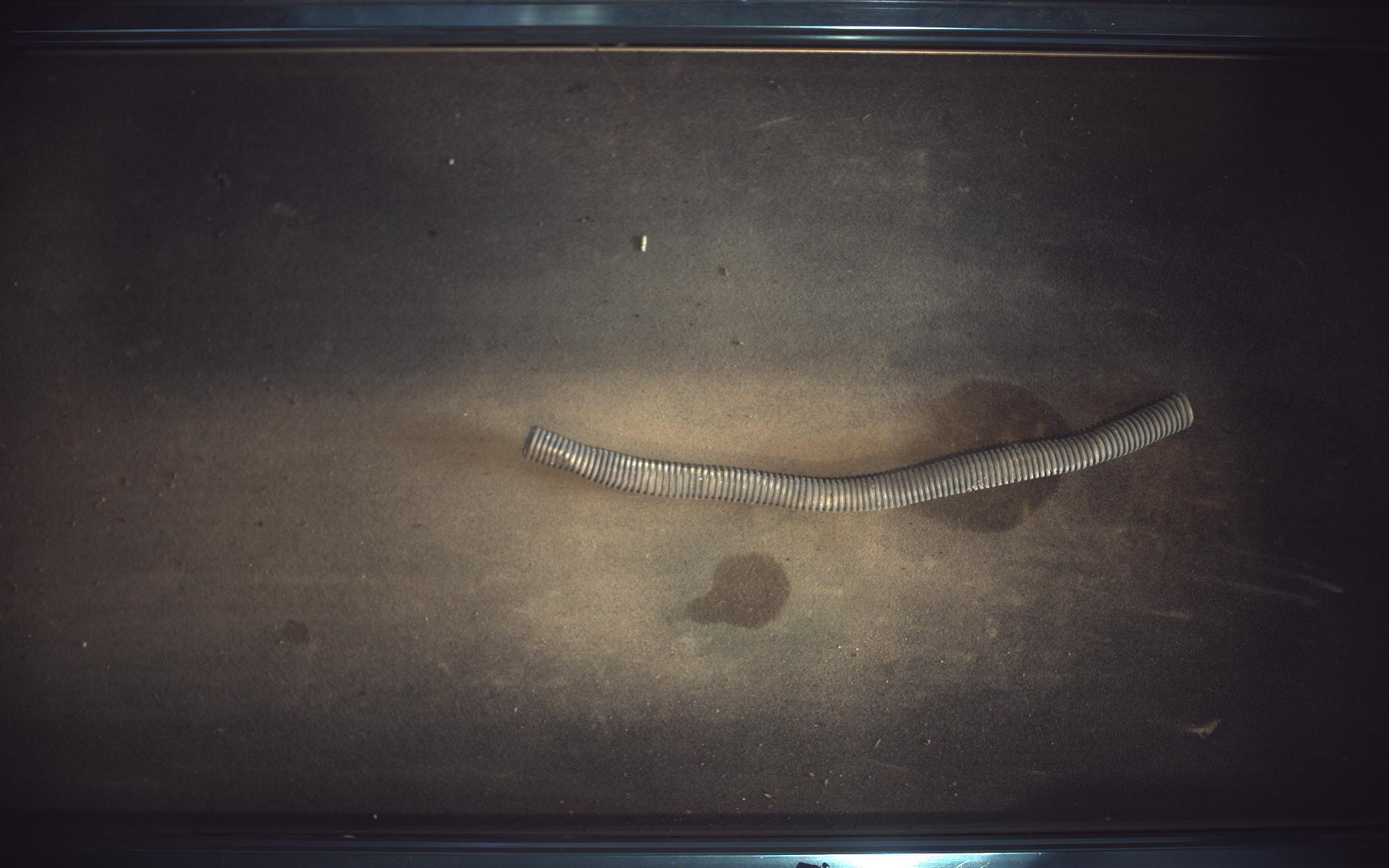pipes: (524, 393, 1197, 512)
